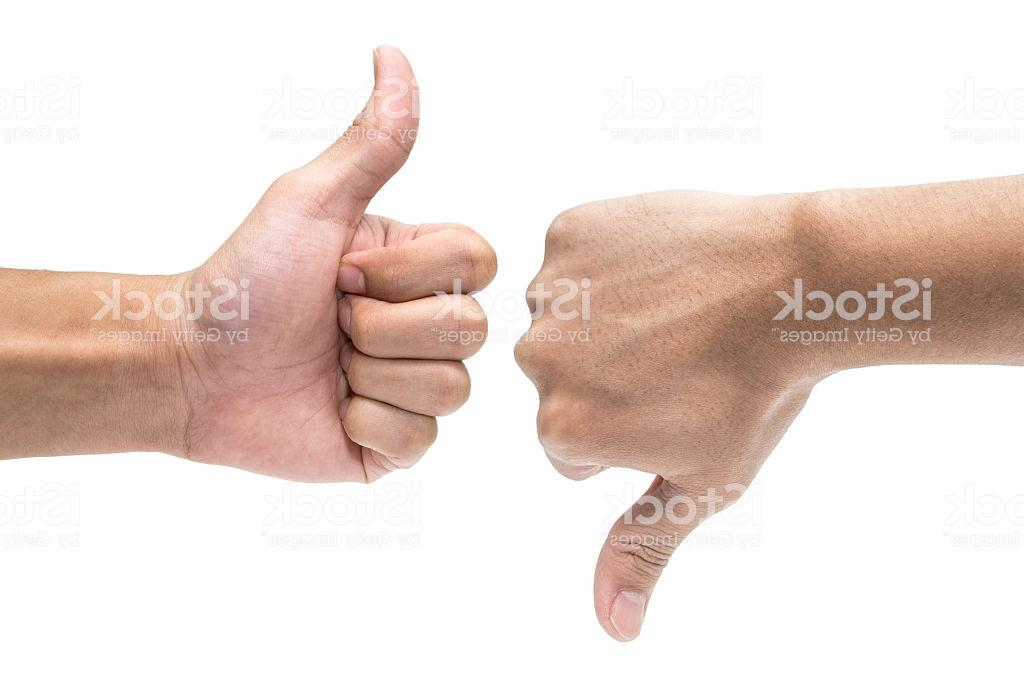thumbsup: (215, 43, 502, 490)
